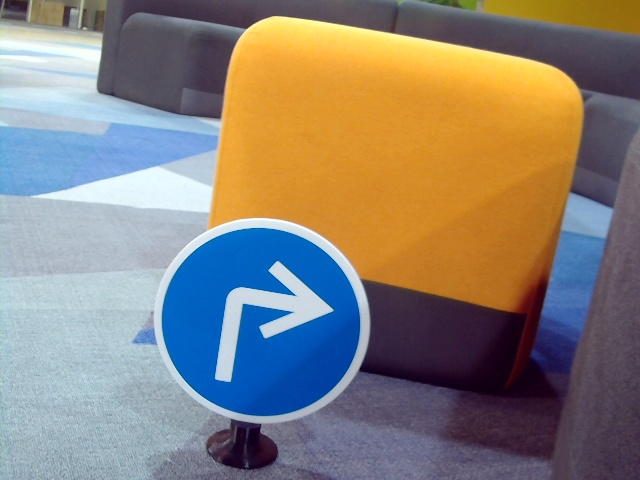turn_right: (210, 251, 329, 382)
